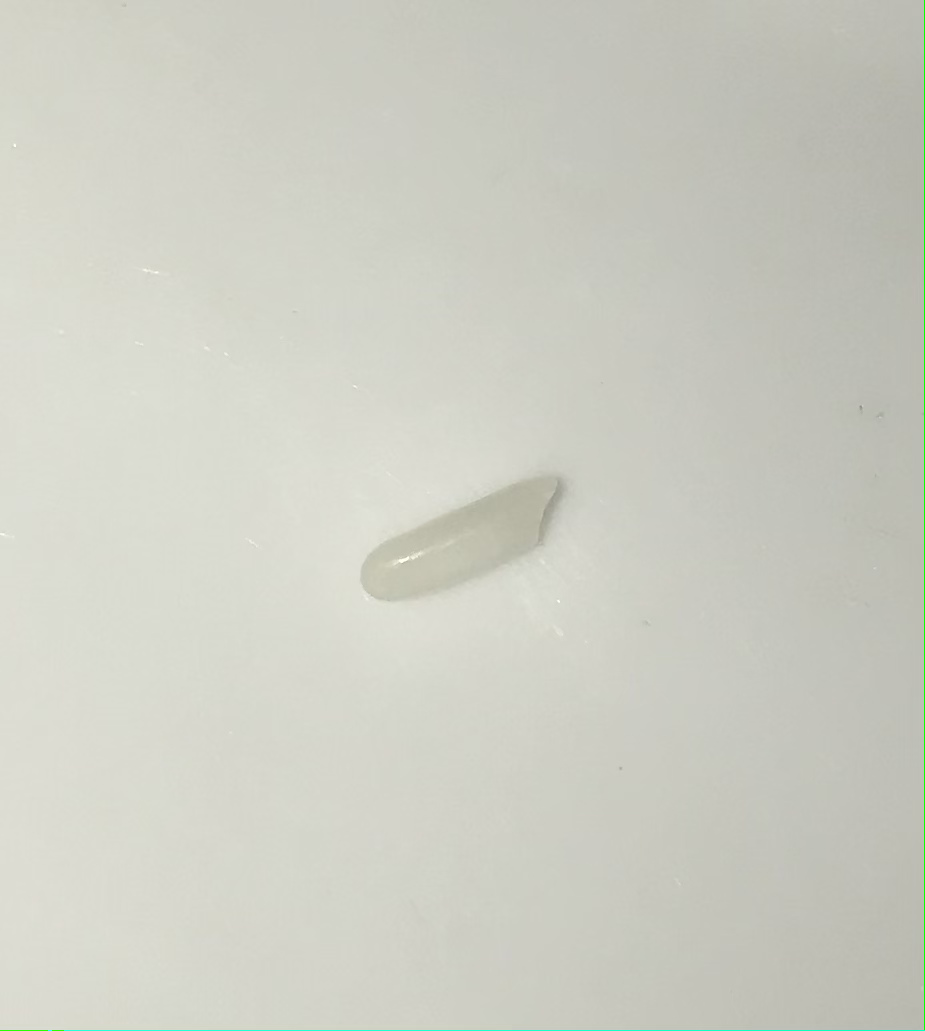Gao Ngoc Troi: (357, 471, 593, 611)
